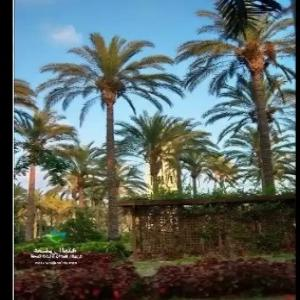palm tree: (36, 31, 184, 241), (174, 0, 296, 195), (13, 107, 78, 240)
